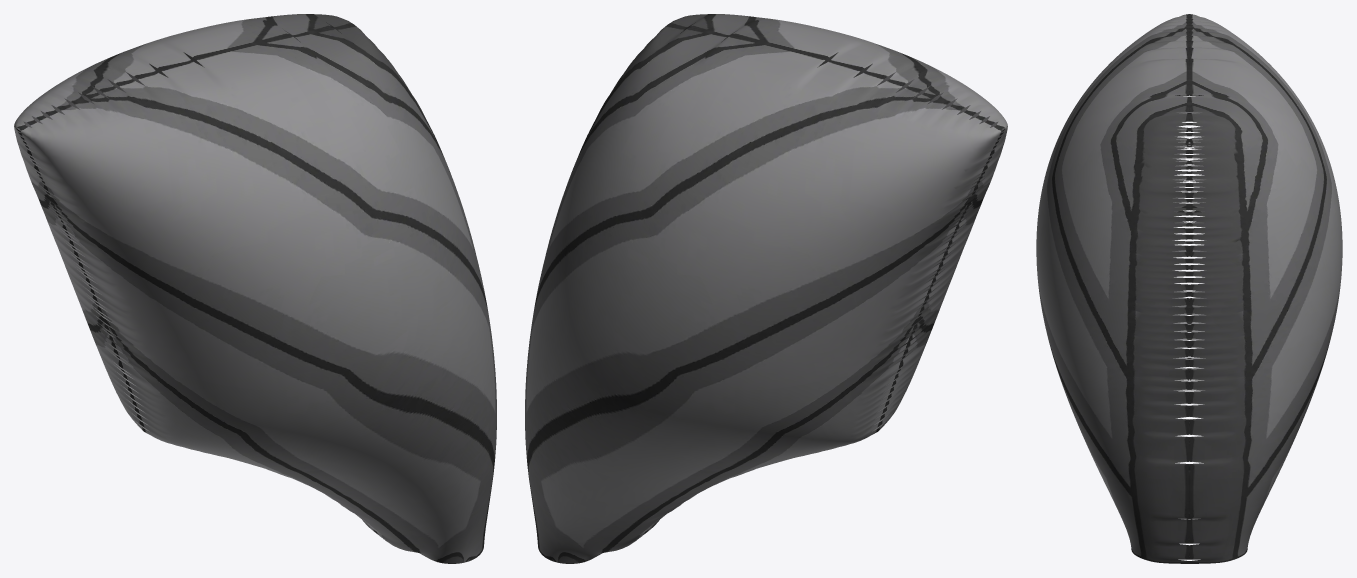
Rendered from curved_hull_segment.glb.
The picture shows the model from 3 angles, left to right: view 1: azimuth 30°, elevation 25°; view 2: azimuth 150°, elevation 25°; view 3: azimuth 270°, elevation 25°; orthographic projection. The views are drawn at different scales.
Parts seen in each view (by area): view 1: curved_hull_segment; view 2: curved_hull_segment; view 3: curved_hull_segment.
Part boxes in pixels (x1,y1,x2,y2): curved_hull_segment: (14, 14, 496, 563); curved_hull_segment: (525, 14, 1007, 563); curved_hull_segment: (1036, 14, 1342, 563).
Size of the model in its own units: 0.9869 by 1.11 by 0.7573.
Materials: 1 (1 with a texture image).
